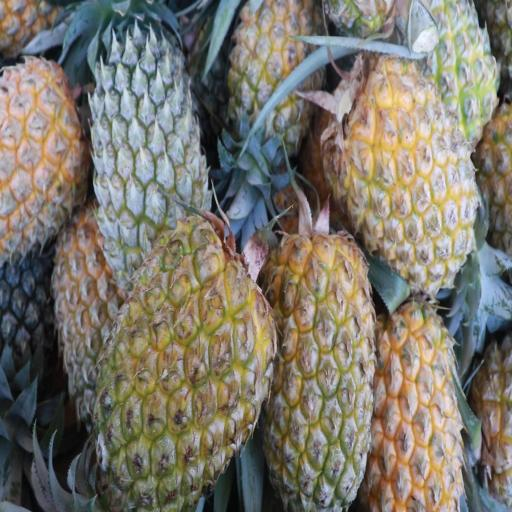------------------------------: (52, 208, 130, 424), (226, 2, 320, 152)
Pineapple - v8 v1: (99, 217, 270, 512), (267, 230, 374, 505), (343, 64, 474, 279), (370, 296, 458, 508), (0, 62, 84, 246)
